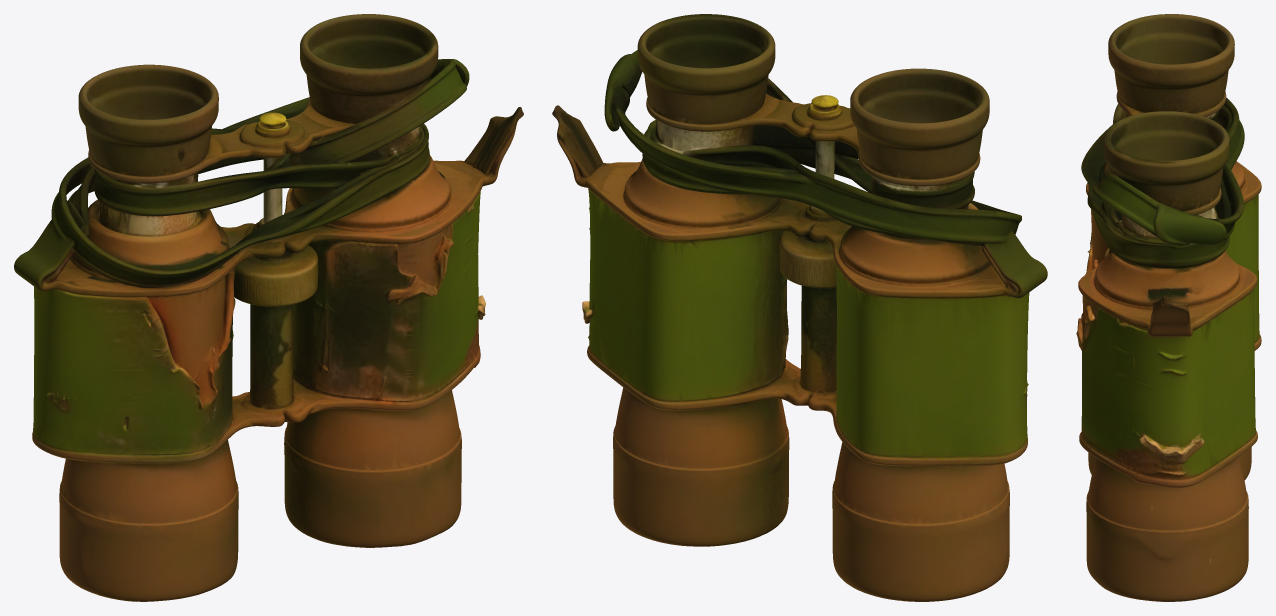
The picture shows the model from 3 angles, left to right: view 1: azimuth 30°, elevation 25°; view 2: azimuth 150°, elevation 25°; view 3: azimuth 270°, elevation 25°; orthographic projection. The views are drawn at different scales.
Visible parts, largest first — view 1: node_0; view 2: node_0; view 3: node_0.
Boxes of the visible parts, <box> form: node_0: <box>14,14,523,601</box>; node_0: <box>552,14,1047,601</box>; node_0: <box>1076,14,1261,601</box>.
Size of the model in its own units: 0.9751 by 0.8969 by 0.3487.
Materials: 1 (1 with a texture image).
